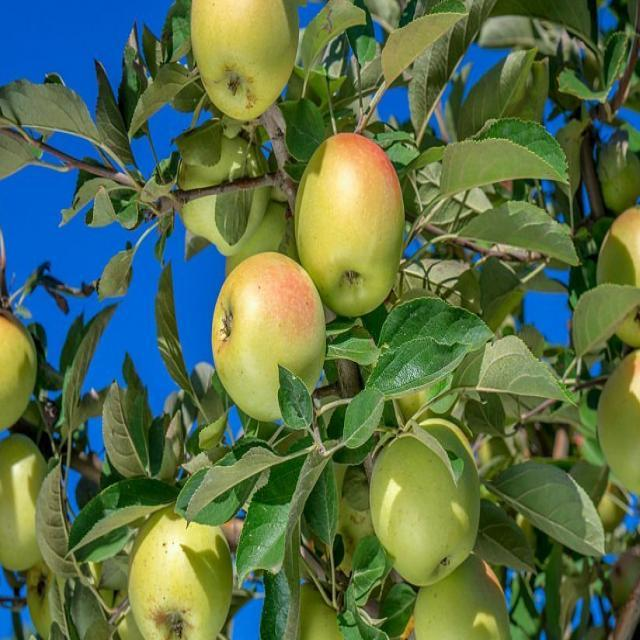Green Apple: (296, 138, 404, 324), (368, 418, 471, 590), (214, 255, 322, 415), (137, 506, 233, 640), (192, 1, 296, 117), (185, 129, 263, 242), (413, 552, 507, 640), (1, 434, 60, 564), (86, 548, 169, 640), (322, 461, 384, 570), (598, 348, 640, 498), (25, 546, 89, 640), (597, 206, 640, 342), (278, 587, 371, 640), (1, 307, 33, 431), (616, 550, 640, 604)
